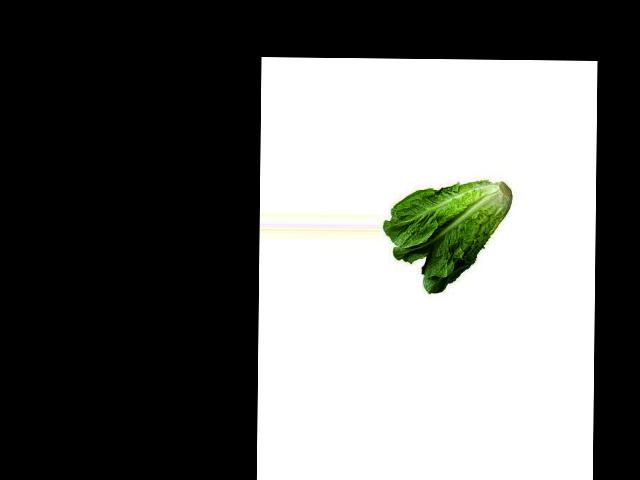lettuce: (387, 235, 470, 348)
